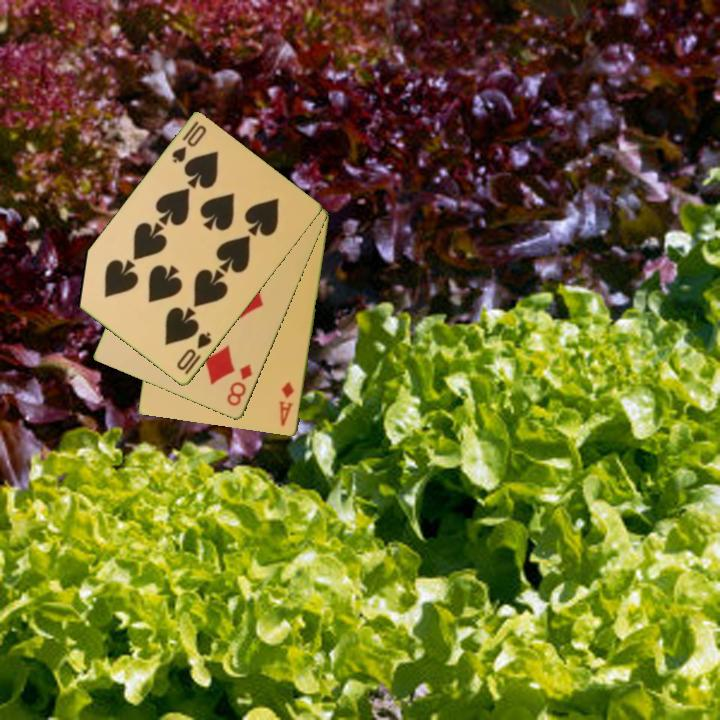10s: (168, 117, 210, 167), (173, 329, 215, 378)
8d: (223, 360, 255, 410)
Ad: (276, 378, 297, 429)
